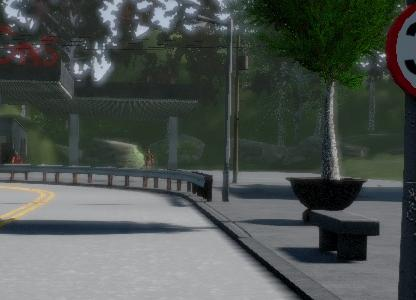Speed_30: (381, 0, 416, 109)
